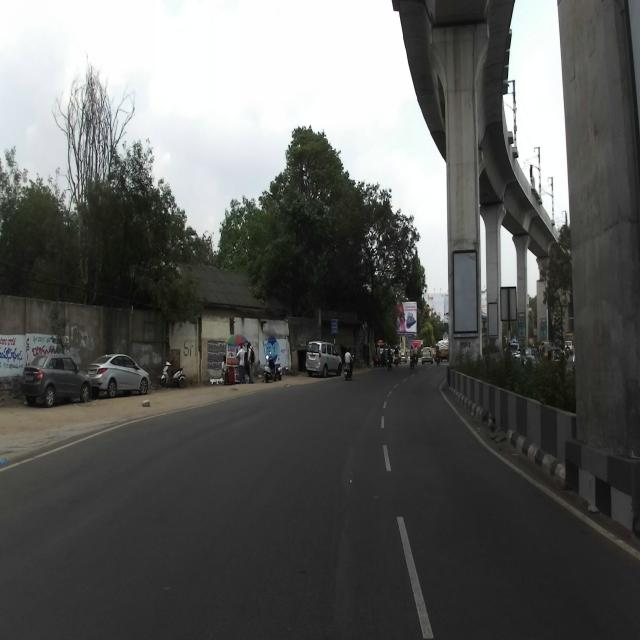Car_Hyundai: (87, 353, 148, 396)
Car_Mahindra: (303, 339, 342, 378)
Car_Maruti-Suzuki: (22, 353, 92, 407)
scooter: (159, 360, 186, 387), (262, 355, 277, 383), (343, 354, 354, 381)
